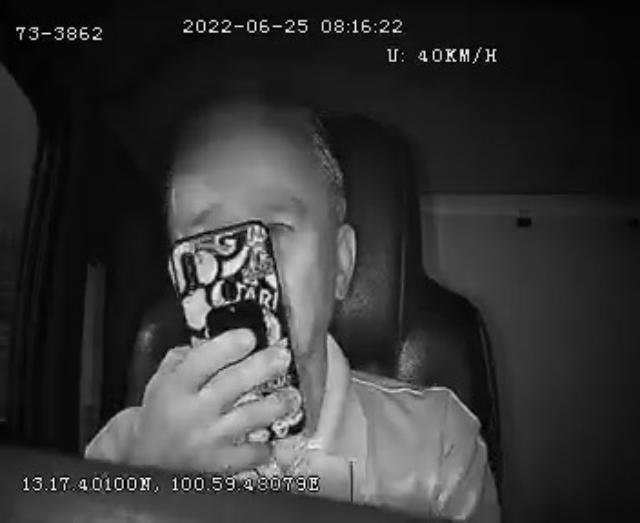PhoneUse: (169, 221, 307, 438)
